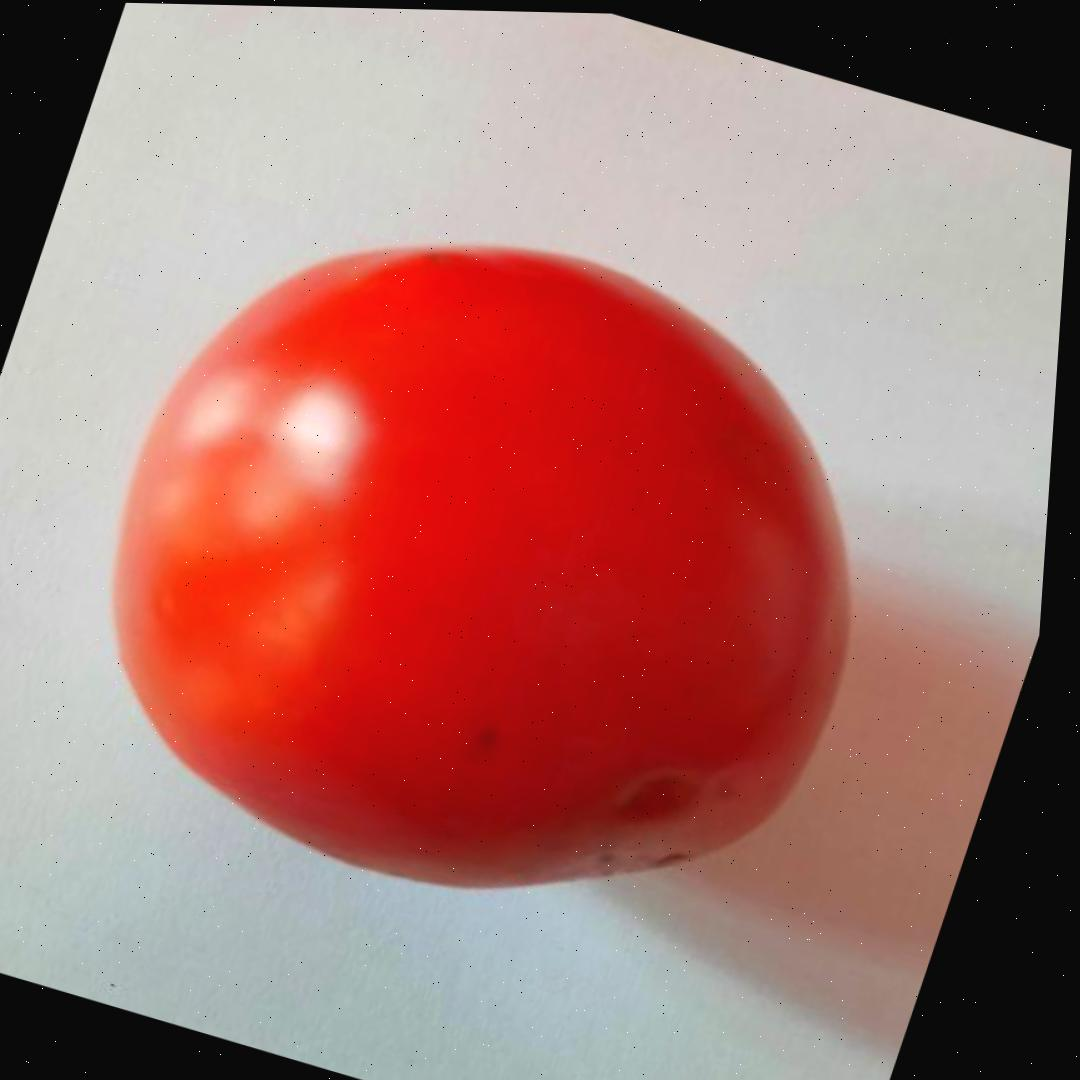matang: (14, 150, 966, 989)
